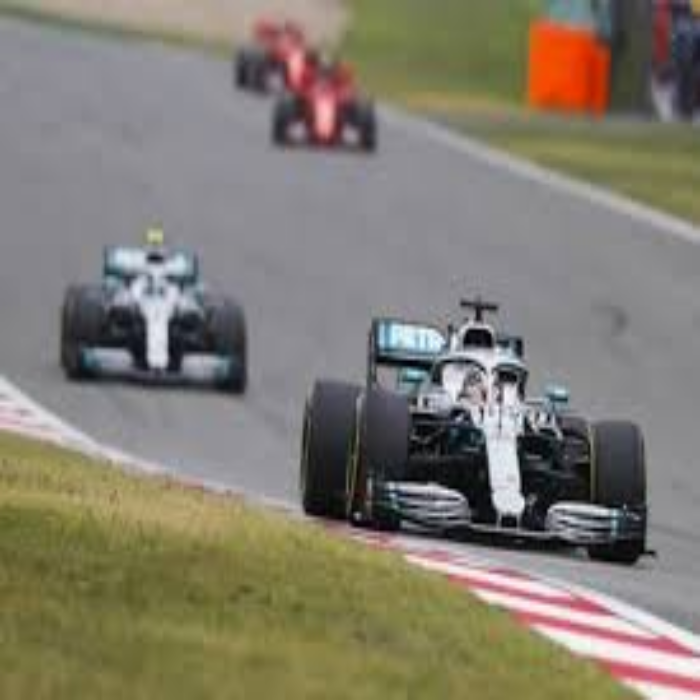f1_car: (295, 288, 672, 574), (51, 231, 286, 404), (253, 52, 394, 155)
